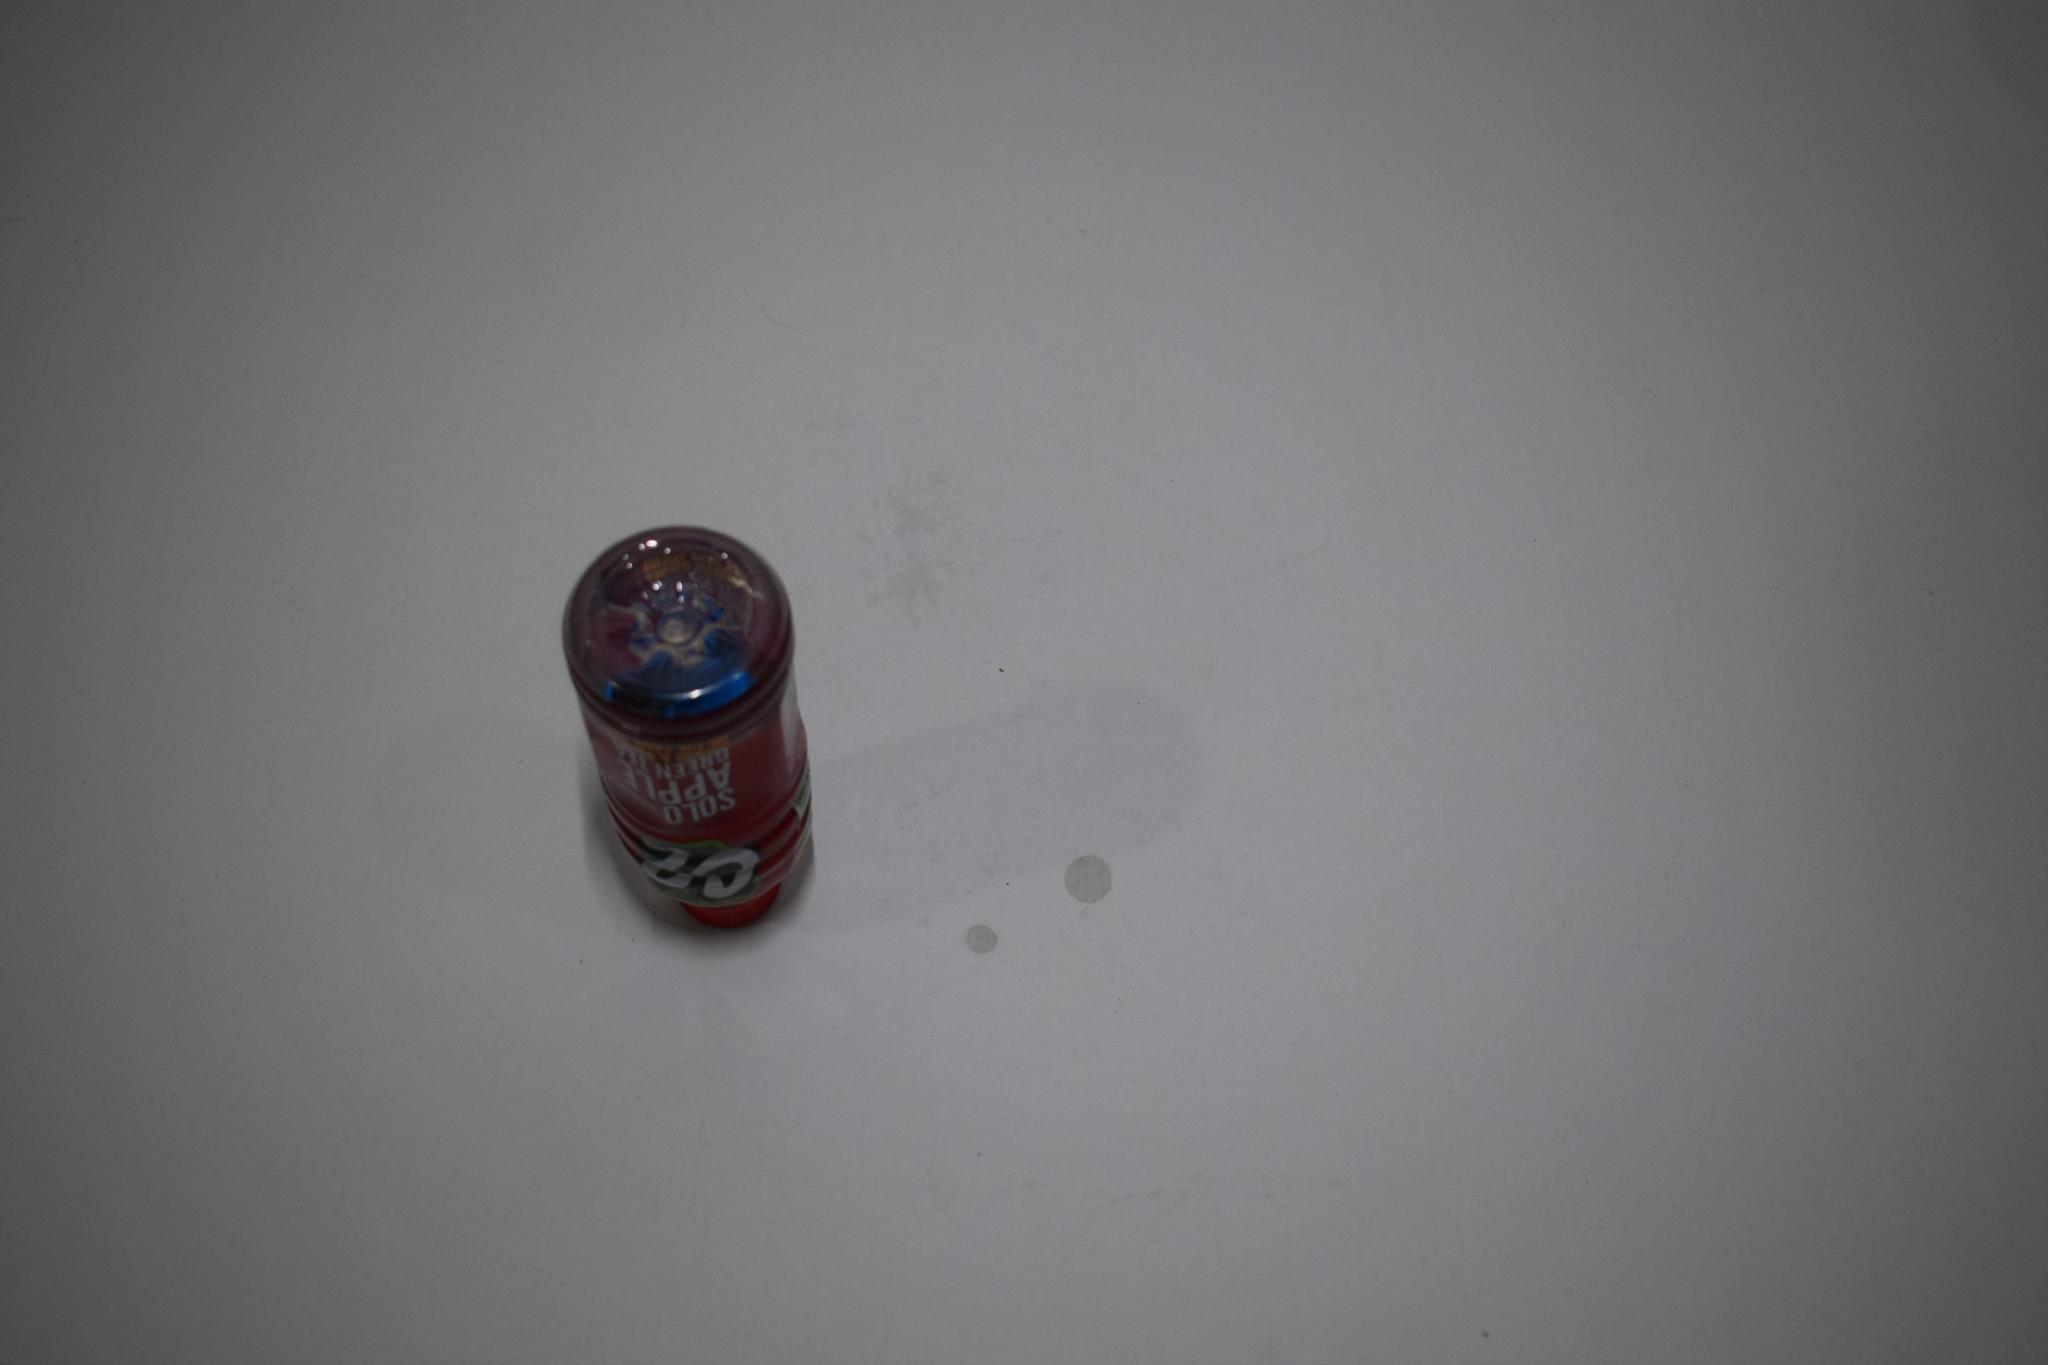bottle: (548, 506, 815, 970)
